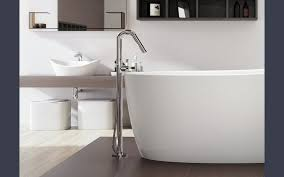bathub: (123, 64, 284, 164)
